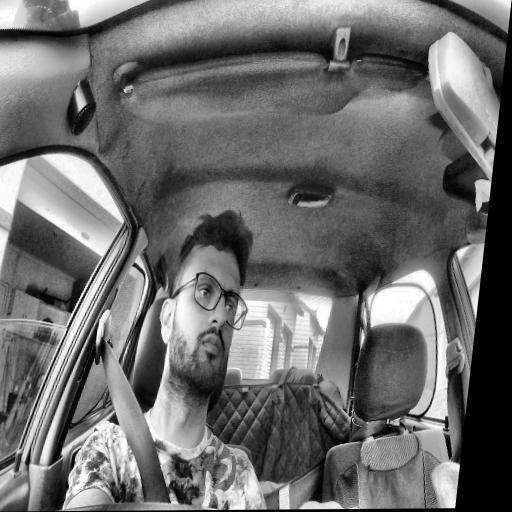awake: (151, 212, 259, 396)
